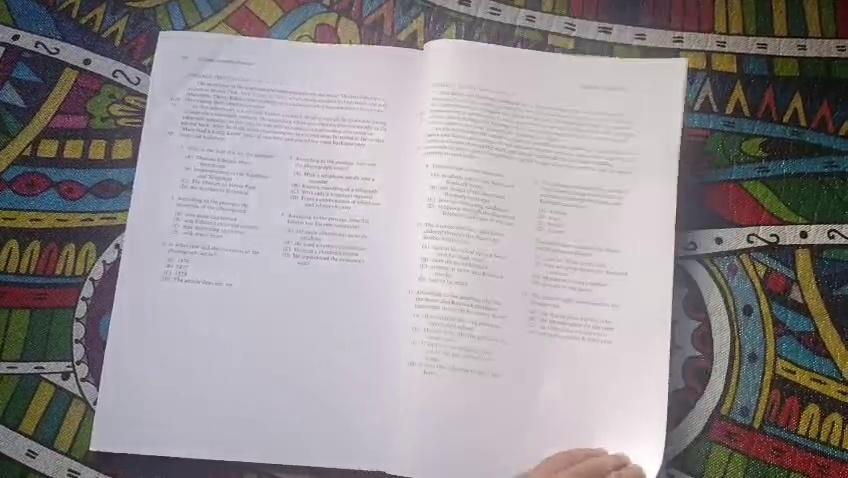Kertas: (171, 53, 512, 450), (410, 64, 662, 440)
